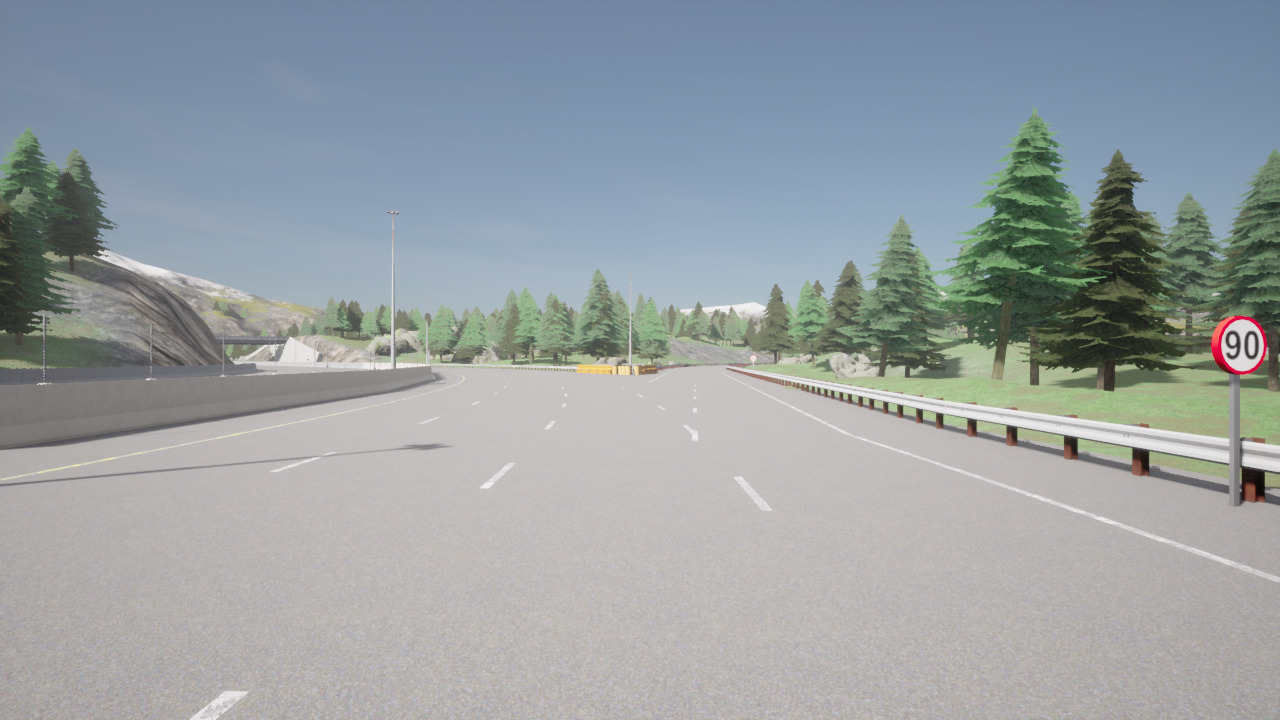sl90: (1209, 313, 1269, 377)
